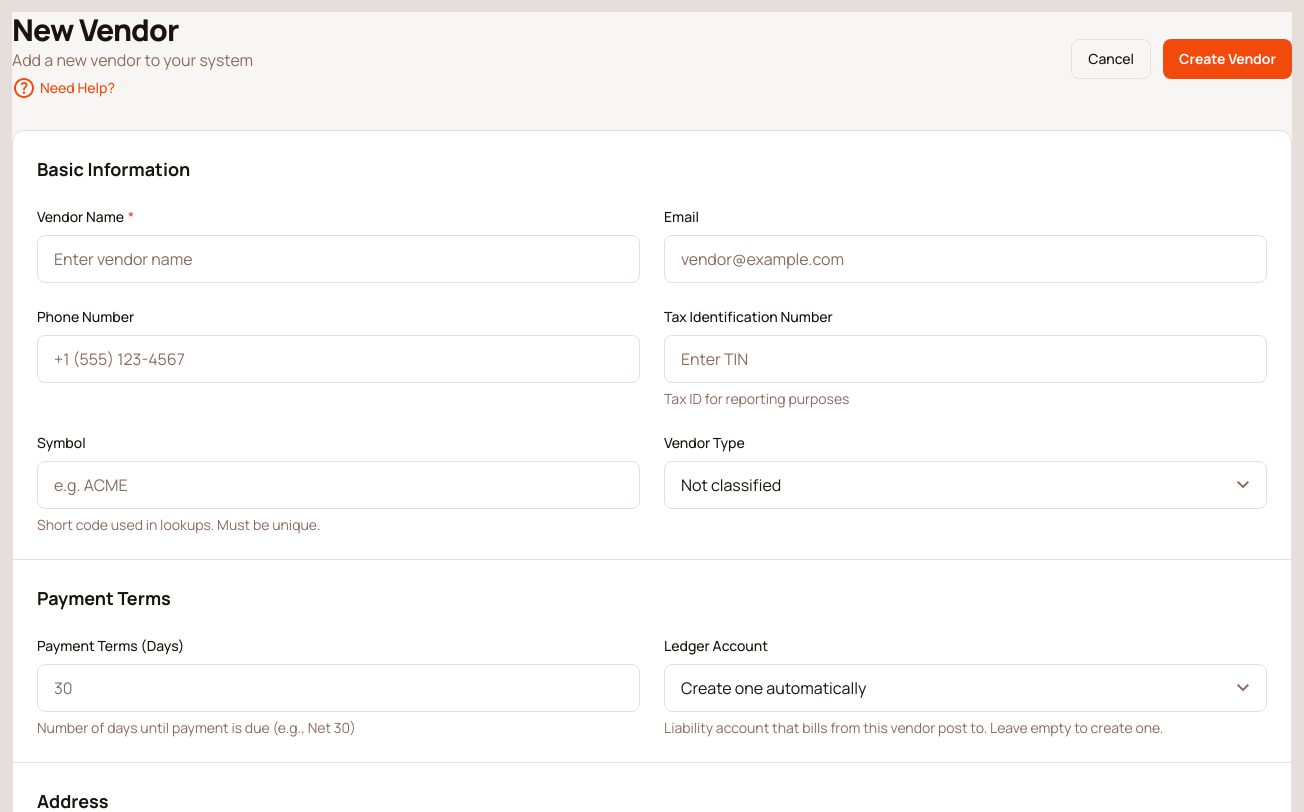
Scenario: VendorFormPage domain fields (SOUPFIN-182) › validation › blocks saving with an empty name
This screenshot has width=1304, height=812.
Click the button with test id "vendor-form-save" at (1228, 59), box left=1163, top=39, right=1292, bottom=79
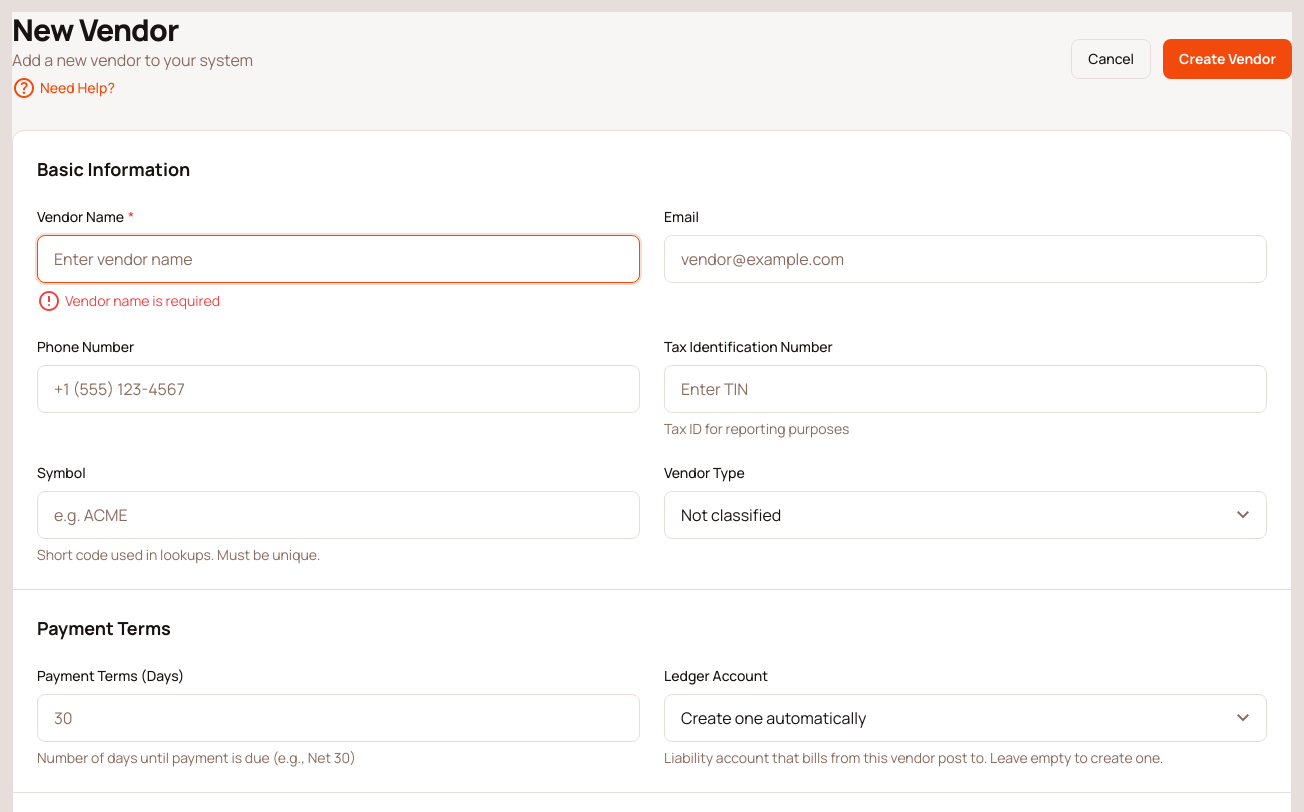
Expected: the text "Vendor name is required" is shown, left=37, top=287, right=220, bottom=315
